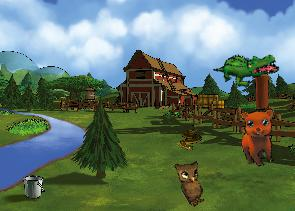bear: (232, 103, 288, 170)
crocodile: (212, 38, 281, 98)
owl: (169, 154, 216, 208)
